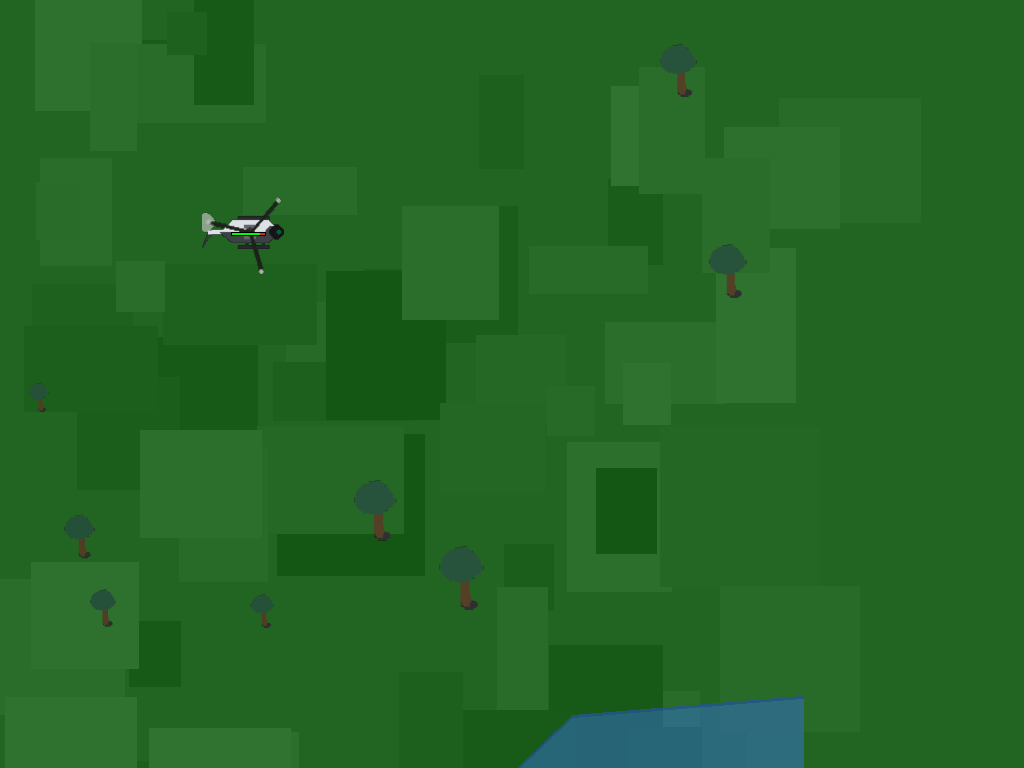Helicopter: (224, 207, 271, 254)
Lake: (357, 696, 804, 768)
